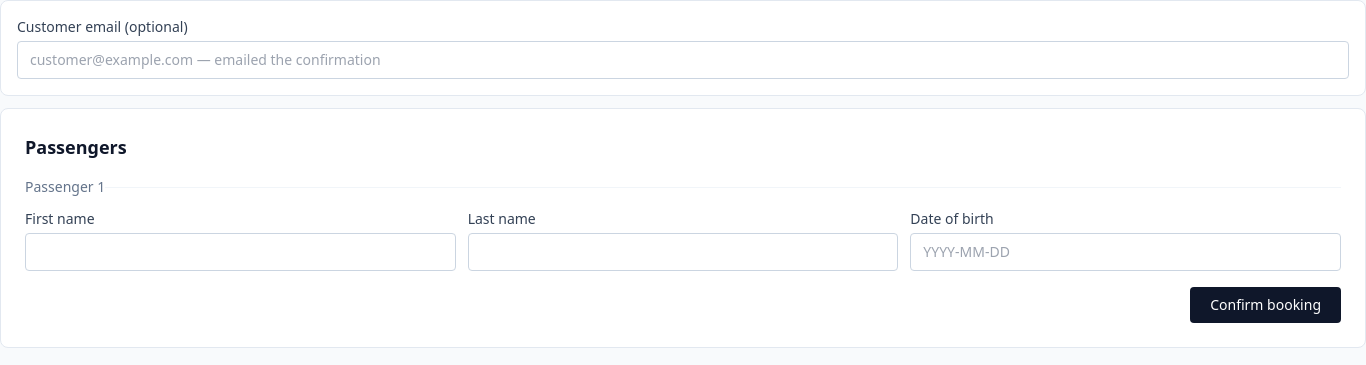
Test: BookingFlow › disables the confirm control once a submit is in flight
The image size is (1366, 365).
Step 1. Type "Jane" into the field labelled "First name" → (240, 252), box [25,233,456,271]
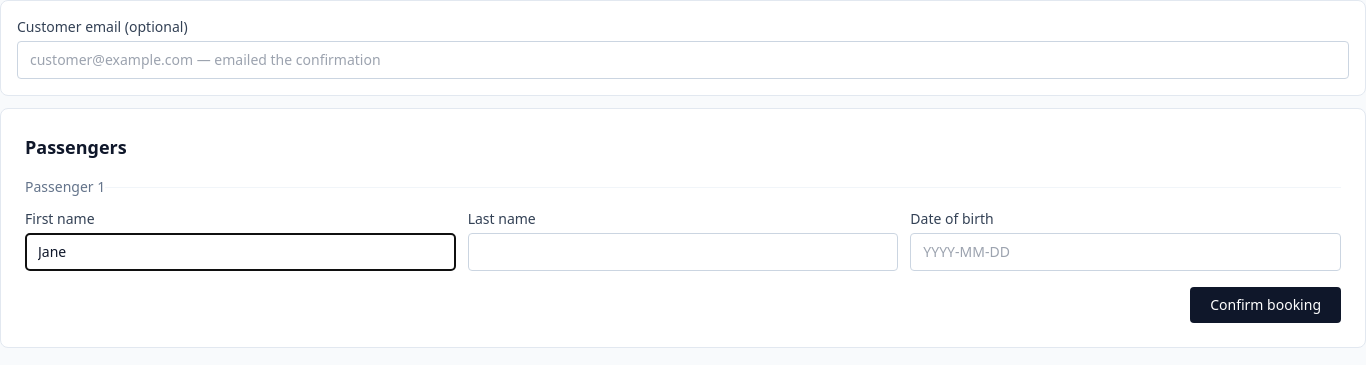
Step 2. Type "Doe" into the field labelled "Last name" → (683, 252), box [468,233,898,271]
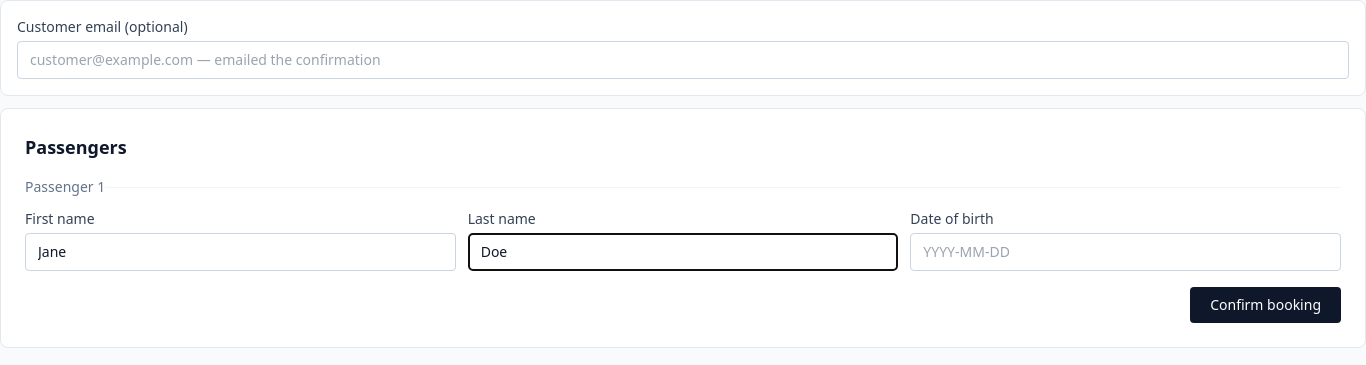
Step 3. Type "1990-01-01" into the field labelled "Date of birth" → (1126, 252), box [910,233,1341,271]
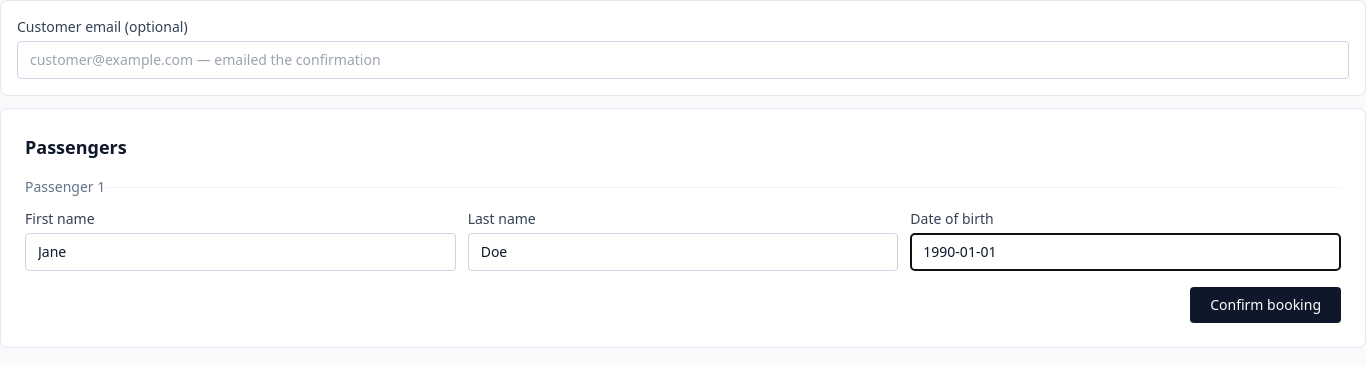
Step 4. Click the button "Confirm booking" → (1266, 305), box [1190,287,1341,323]
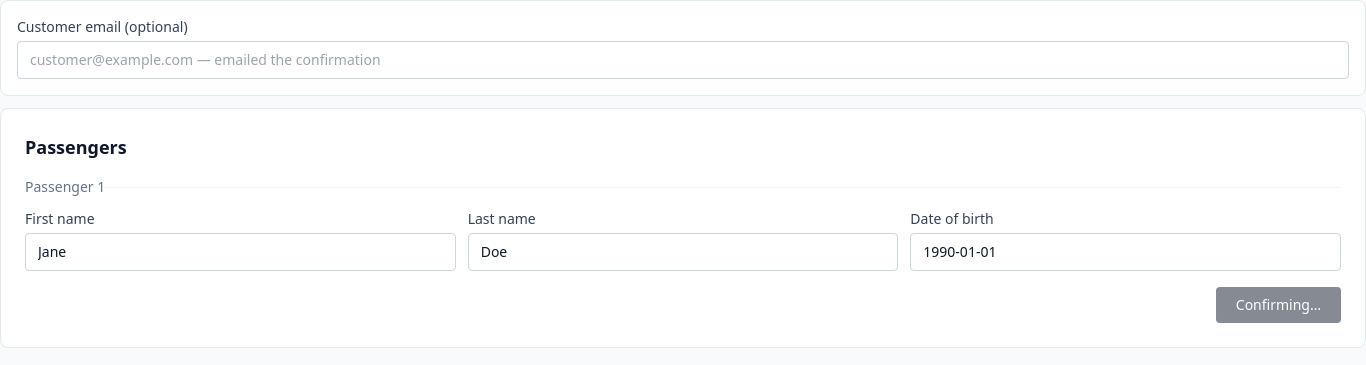
Check: the button "Confirming…" is disabled, box [1216,287,1341,323]
